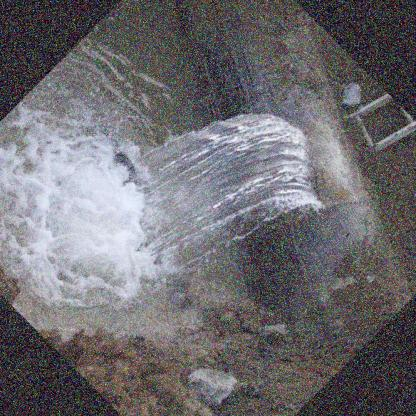burst: (263, 106, 333, 225)
